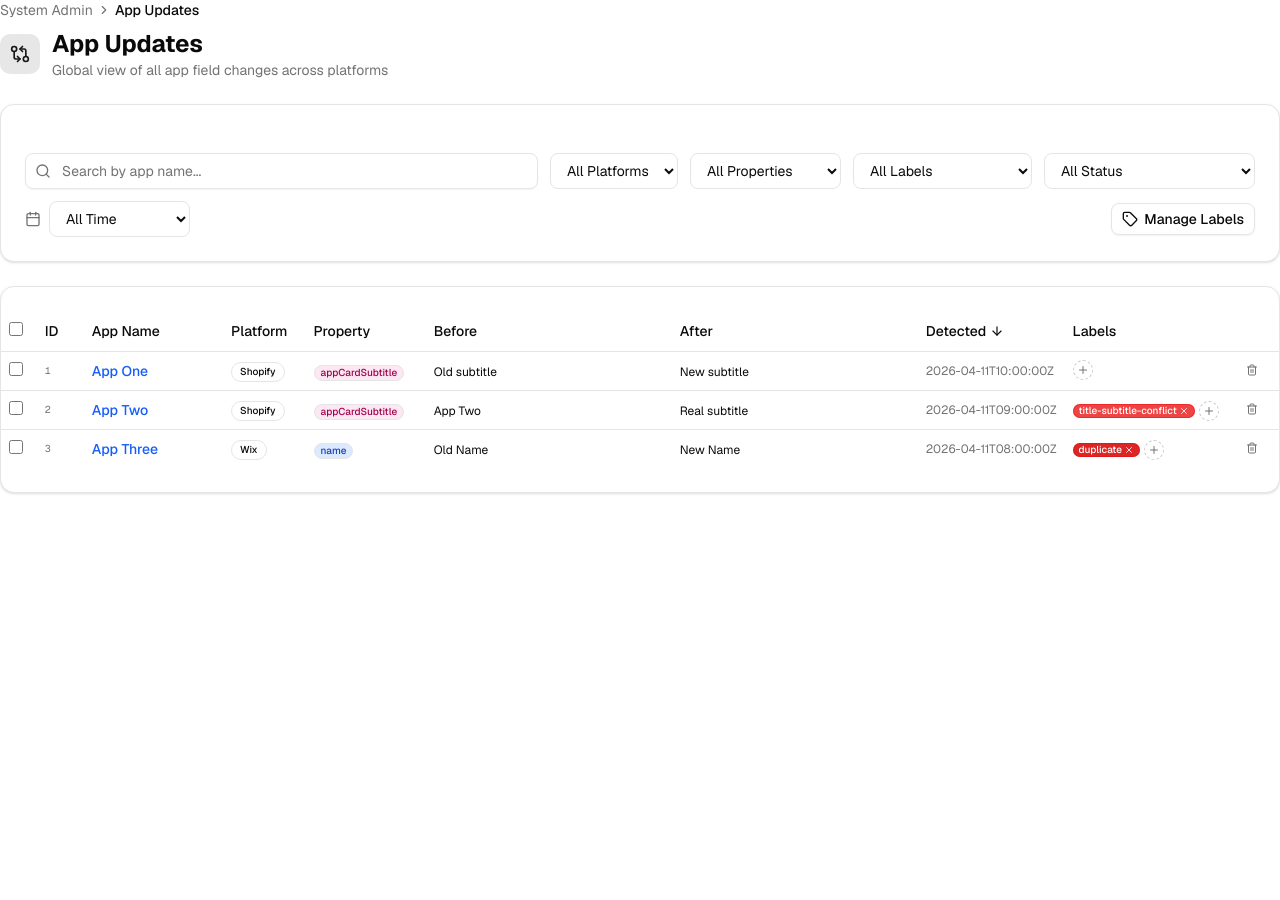
AppUpdatesPage — bulk operations › shows confirmation dialog on bulk delete
The image size is (1280, 900).
Check: the link "App One" is shown, box [92,362,148,380]
// Select all
What coordinates should you click on to do the following:
click the checkbox next to "ID"
I would click on:
 (16, 329)
Its box is [9,322,23,336].
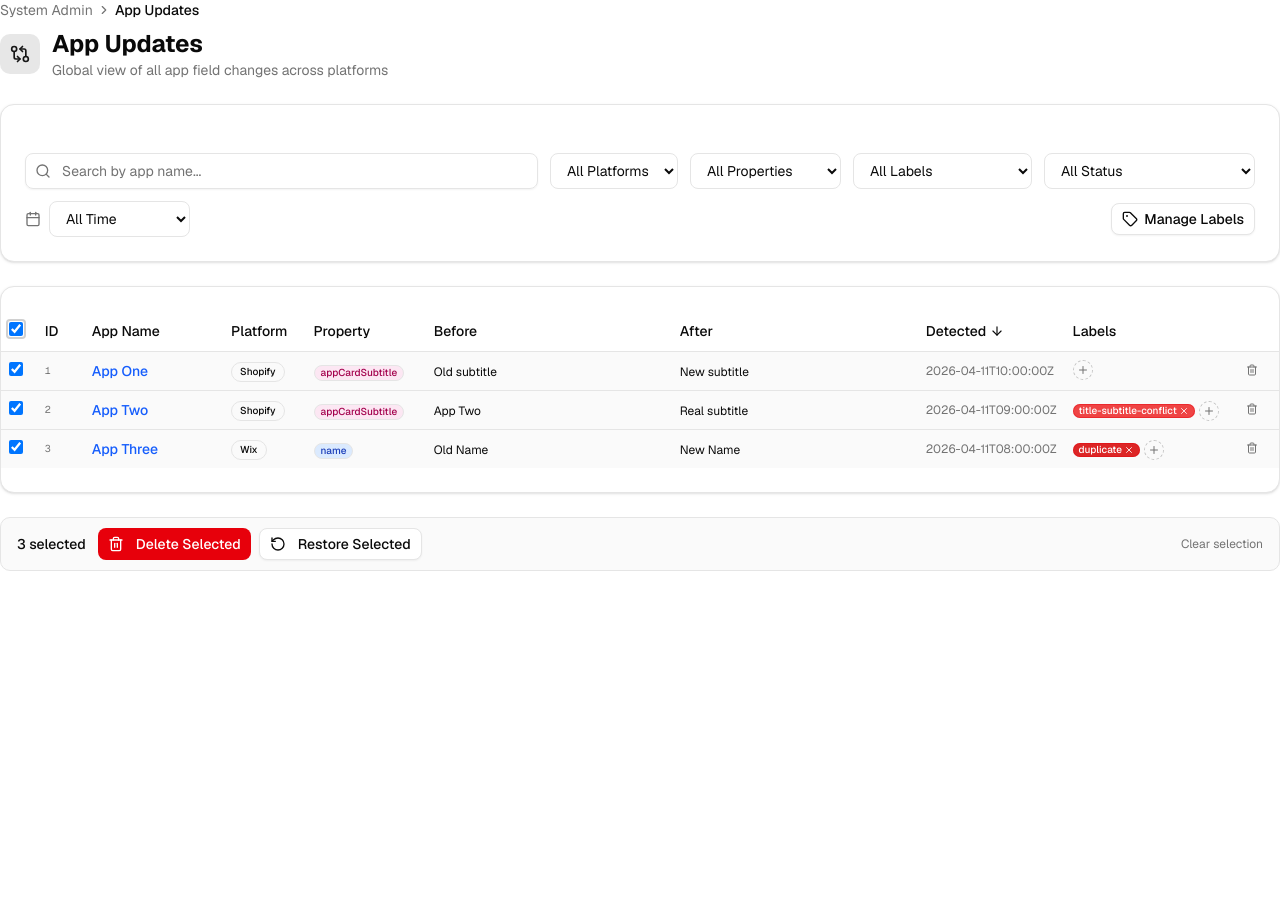
// Click delete
What coordinates should you click on to do the following:
click the button "Delete Selected"
I would click on:
 (174, 544)
Its box is [98,528,251,560].
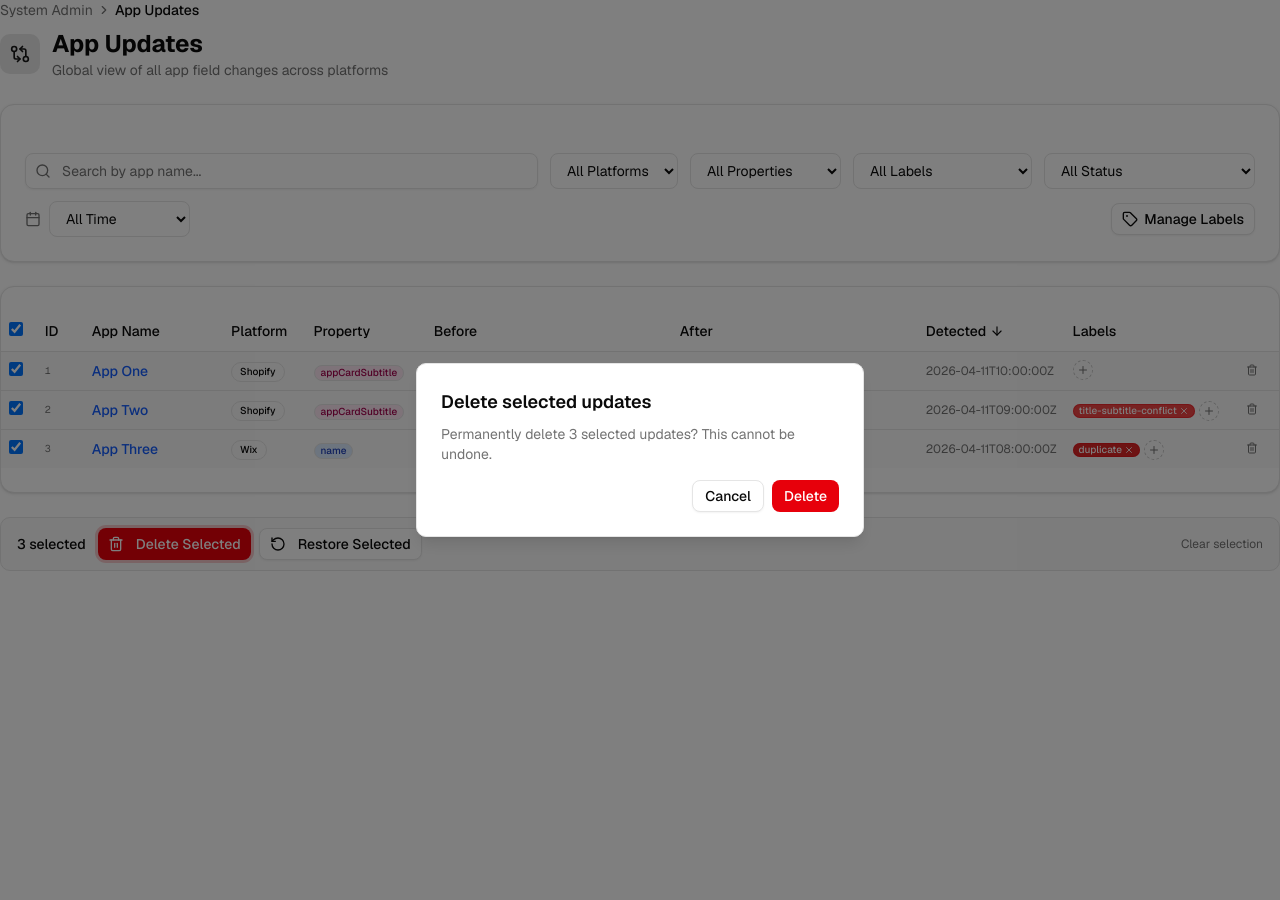
Check: the heading "Delete selected updates" is shown, box [441,390,652,413]
Check: the text "Permanently delete 3 selected updates" is shown, box [441,425,795,463]
Check: the button "Cancel" is shown, box [692,480,764,512]
